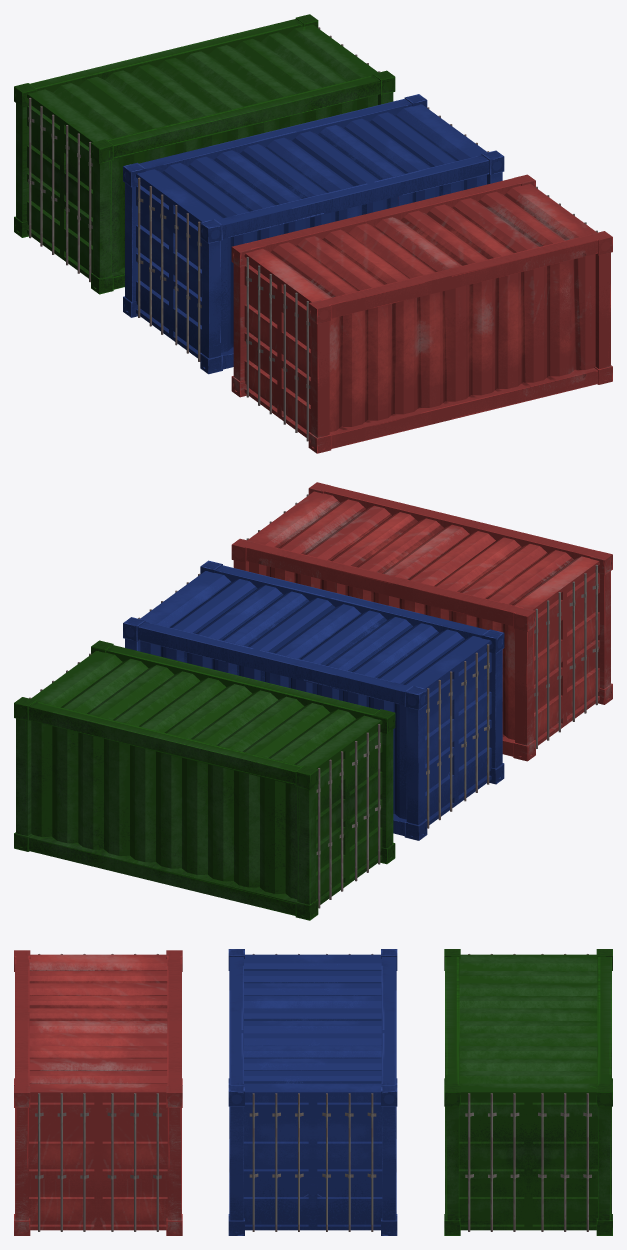
Rendered from Containers.fbx.
3 renders of one model, top to bottom at view 1: azimuth 30°, elevation 25°; view 2: azimuth 150°, elevation 25°; view 3: azimuth 270°, elevation 25°, orthographic.
Visible parts, largest first — view 1: Container 1, Container 3, Container 2; view 2: Container 3, Container 2, Container 1; view 3: Container 2, Container 3, Container 1.
Boxes of the visible parts, box(x1,y1,x2,y2) form: Container 1: box(231, 174, 612, 453); Container 3: box(14, 14, 395, 294); Container 2: box(123, 94, 504, 374); Container 3: box(14, 640, 395, 920); Container 2: box(123, 560, 504, 840); Container 1: box(231, 482, 612, 761); Container 2: box(228, 949, 397, 1235); Container 3: box(444, 949, 612, 1235); Container 1: box(14, 950, 182, 1235).
Size of the model in its own units: 443 by 208 by 786.
